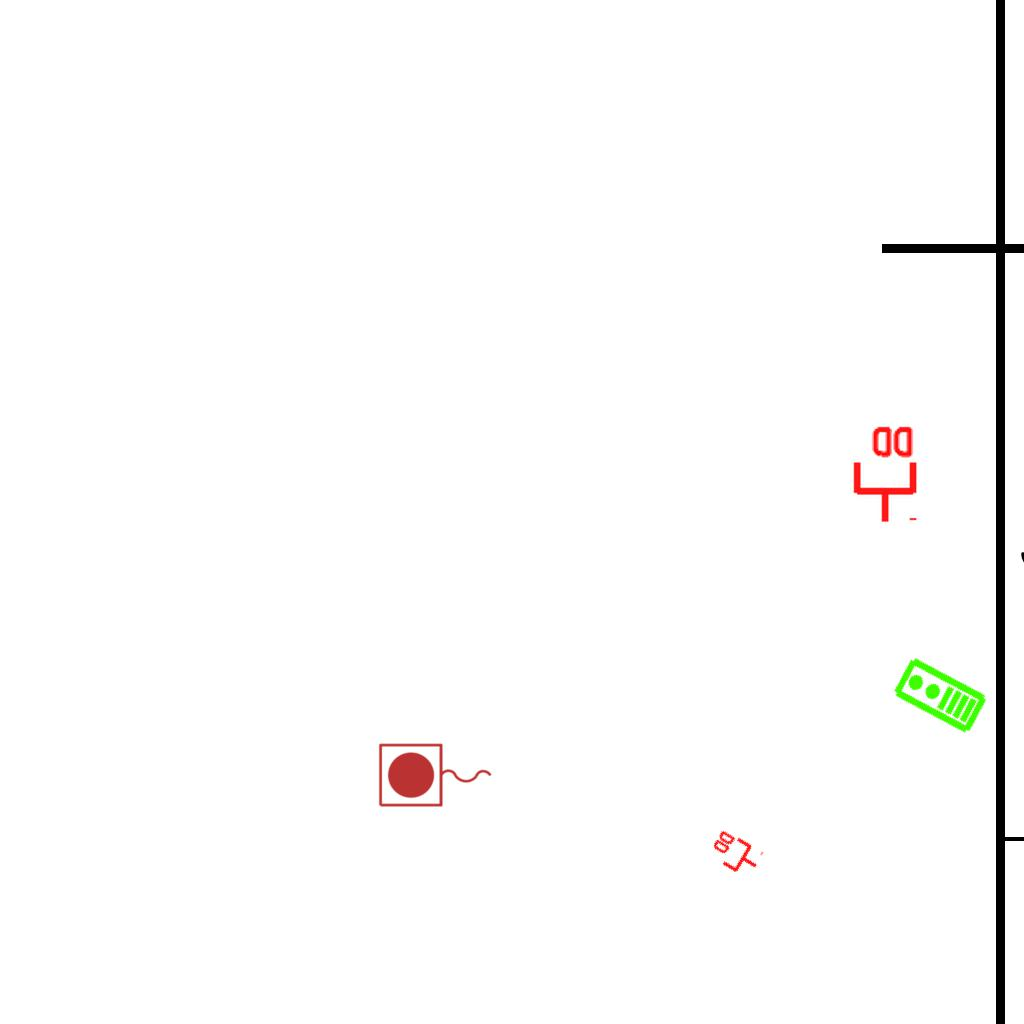Datenanschluss_zweifach: (849, 422, 918, 525), (704, 826, 766, 883)
Gegensprechanlage_mit_Video: (889, 654, 990, 738)
Zugtaster: (375, 740, 497, 812)
